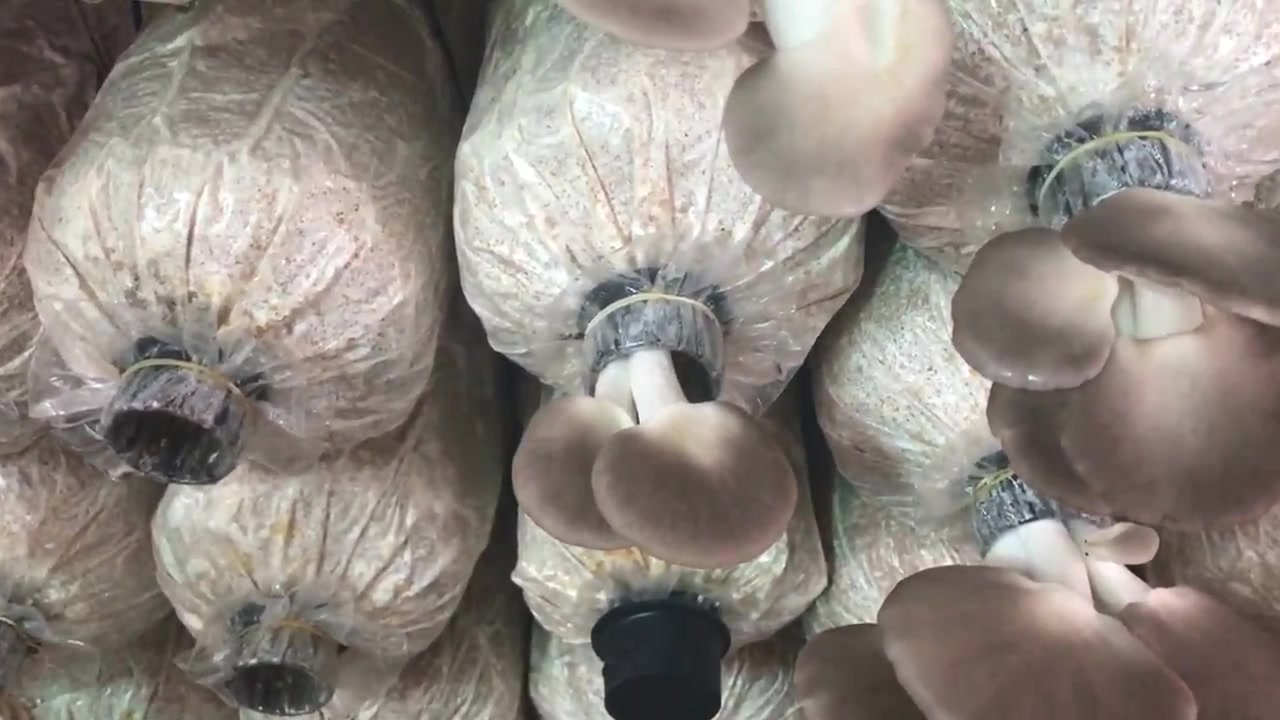nam: (955, 125, 1280, 526), (796, 473, 1280, 719), (514, 288, 800, 567), (723, 1, 956, 217)
